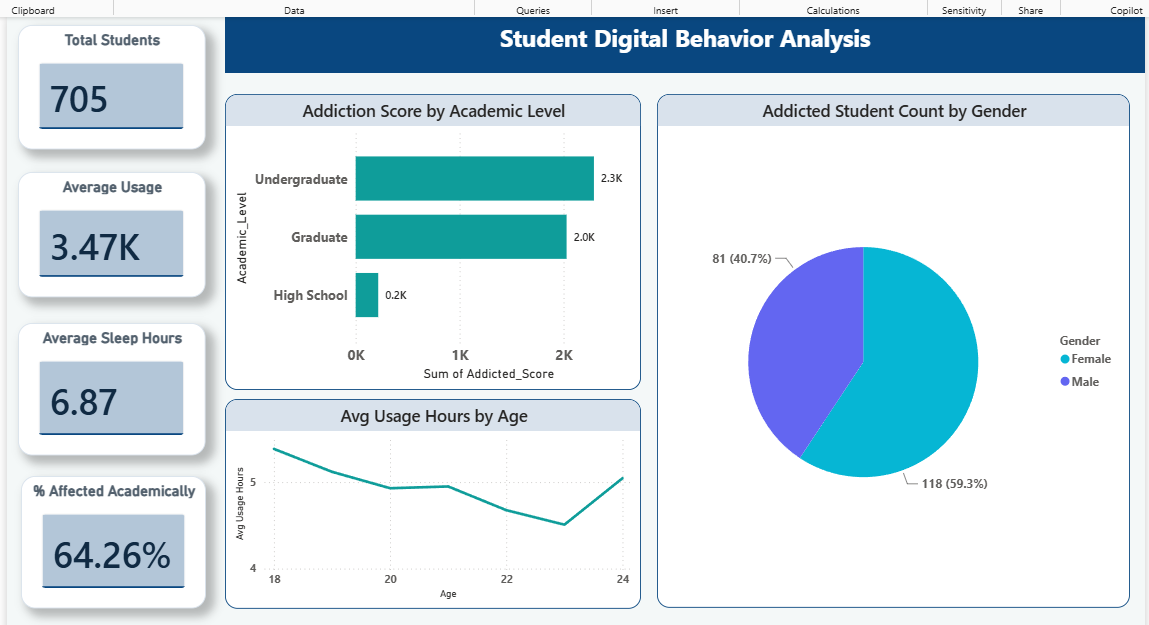

Layout of this report page (visuals, bound fields, positions):
{"tool":"powerbi","page":{"name":"Executive Overview","canvas":[1280,720],"ordinal":1},"visuals":[{"type":"cardVisual","title":"Average Usage","fields":{"Data":["Sum(Platform Details.Avg_Daily_Usage_Hours)"]},"box":[12.9,174.8,210.8,141.4],"z":0},{"type":"cardVisual","title":"Average Sleep Hours","fields":{"Data":["Student Details.Avg Sleep Hours"]},"box":[12.9,344.4,210.8,149.1],"z":1000},{"type":"cardVisual","title":"% Affected Academically","fields":{"Data":["Platform Details.% Affected Academically"]},"box":[15.4,516.6,208.2,149.1],"z":2000},{"type":"cardVisual","title":"Total Students","fields":{"Data":["CountNonNull(Student Details.Student_ID)"]},"box":[12.9,9,210.8,140.1],"z":3000},{"type":"barChart","title":"Addiction Score by Academic Level","fields":{"Category":["Student Details.Academic_Level"],"Y":["Sum(Student Details.Addicted_Score)"]},"box":[245.2,86.6,468,333],"z":4000},{"type":"lineChart","fields":{"Y":["Platform Details.Avg Usage Hours"],"Category":["Student Details.Age"]},"box":[244.9,429.5,468.2,235.8],"z":5000},{"type":"pieChart","fields":{"Category":["Student Details.Gender"],"Y":["Student Details.Addicted Student Count"]},"box":[731.2,86.6,532.1,578.2],"z":6000},{"type":"textbox","box":[244.9,0,1035.6,62.7],"z":7000}]}

Visuals, with their boxes on the page's 1280x720 design canvas (x1, y1, x2, y2). These are canvas units, not pixel positions in the 1149x625 screenshot, which may show the page scaled, cropped or inside an application window:
"Average Usage" cardVisual: (13,175,224,316)
"Average Sleep Hours" cardVisual: (13,344,224,494)
"% Affected Academically" cardVisual: (15,517,224,666)
"Total Students" cardVisual: (13,9,224,149)
"Addiction Score by Academic Level" barChart: (245,87,713,420)
lineChart - Platform Details.Avg Usage Hours x Student Details.Age: (245,430,713,665)
pieChart - Student Details.Gender x Student Details.Addicted Student Count: (731,87,1263,665)
textbox: (245,0,1280,63)
